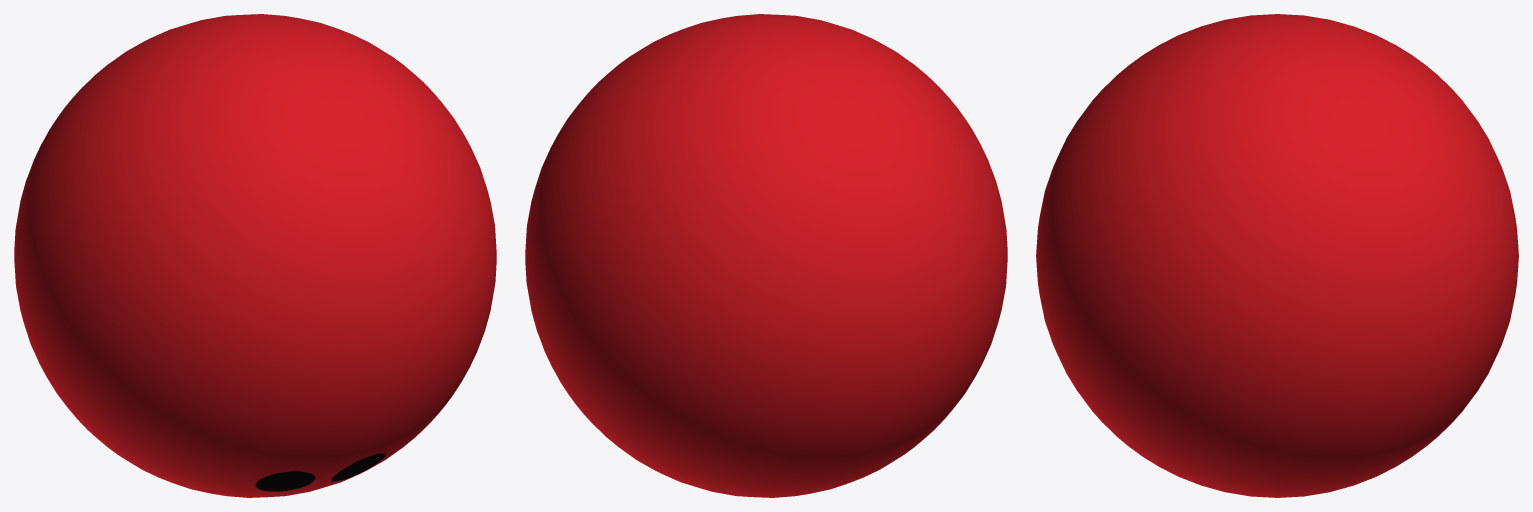
The model's file is NosePrototype.fbx.
3 renders of one model, left to right at view 1: azimuth 30°, elevation 25°; view 2: azimuth 150°, elevation 25°; view 3: azimuth 270°, elevation 25°, orthographic.
Visible parts, largest first — view 1: mesh_id50; view 2: mesh_id50; view 3: mesh_id50.
Boxes of the visible parts, <box> form: mesh_id50: <box>14,14,496,497</box>; mesh_id50: <box>525,14,1007,497</box>; mesh_id50: <box>1036,14,1518,497</box>.
Size of the model in its own units: 289 by 290 by 289.
Materials: 1 (1 with a texture image).
